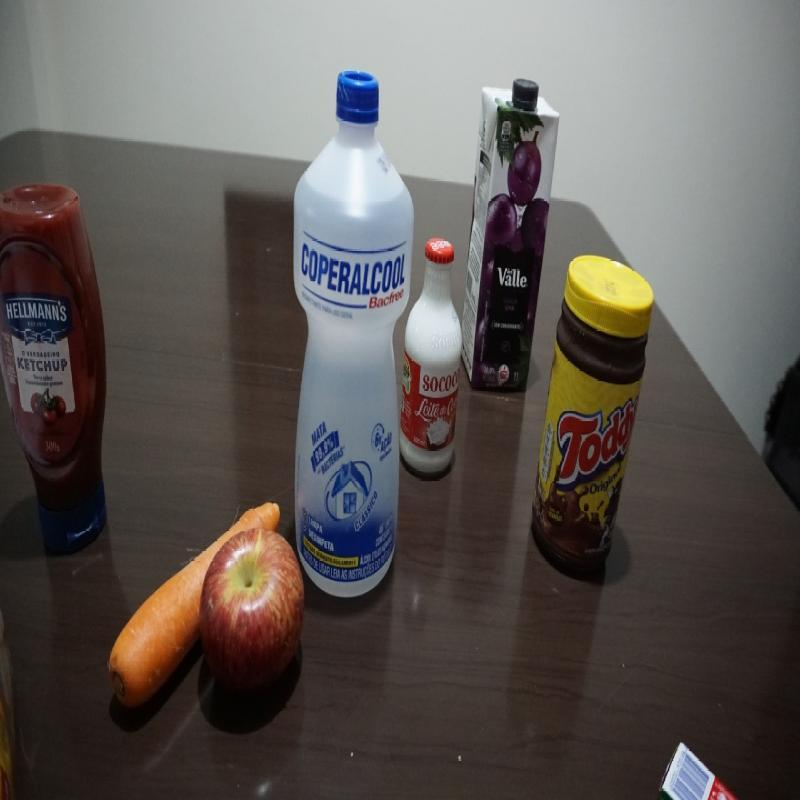Alcohol Bottle: (290, 66, 416, 608)
Apple: (198, 530, 306, 702)
Carrot: (104, 577, 196, 715)
Chocolate Powder: (529, 254, 655, 578)
Coconut Milk: (397, 235, 462, 478)
Ketchup: (1, 179, 112, 554)
